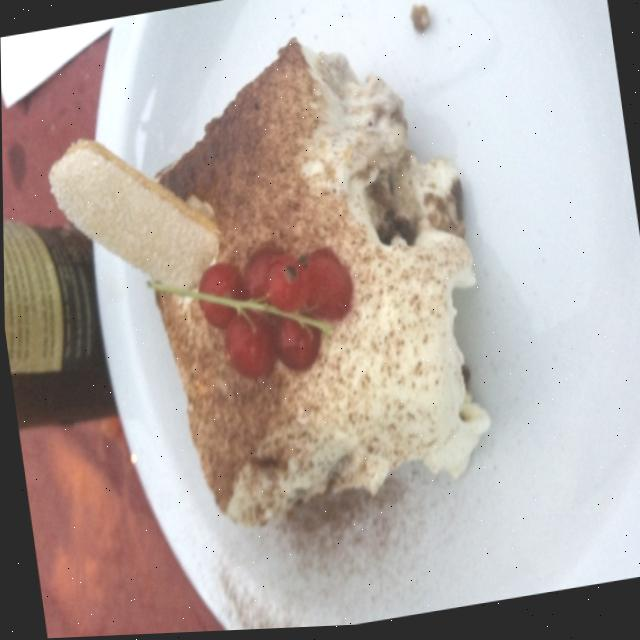蛋糕甜品: (41, 0, 640, 639)
